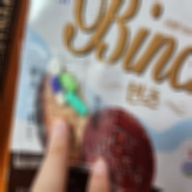러키펜정: (49, 58, 64, 78)
씨엠지세파클러캡슐: (50, 76, 65, 106)
에르도캡슐: (65, 92, 88, 117)
휴티렌정: (58, 73, 77, 93)
